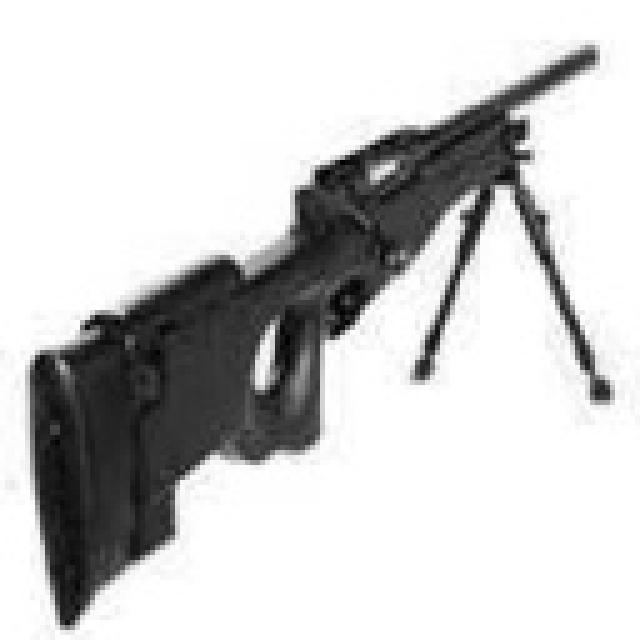Rifle: (3, 29, 640, 640)
